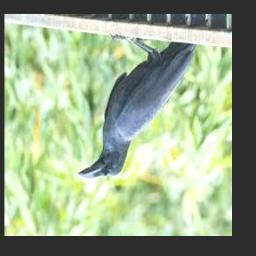Crow: (77, 15, 206, 180)
